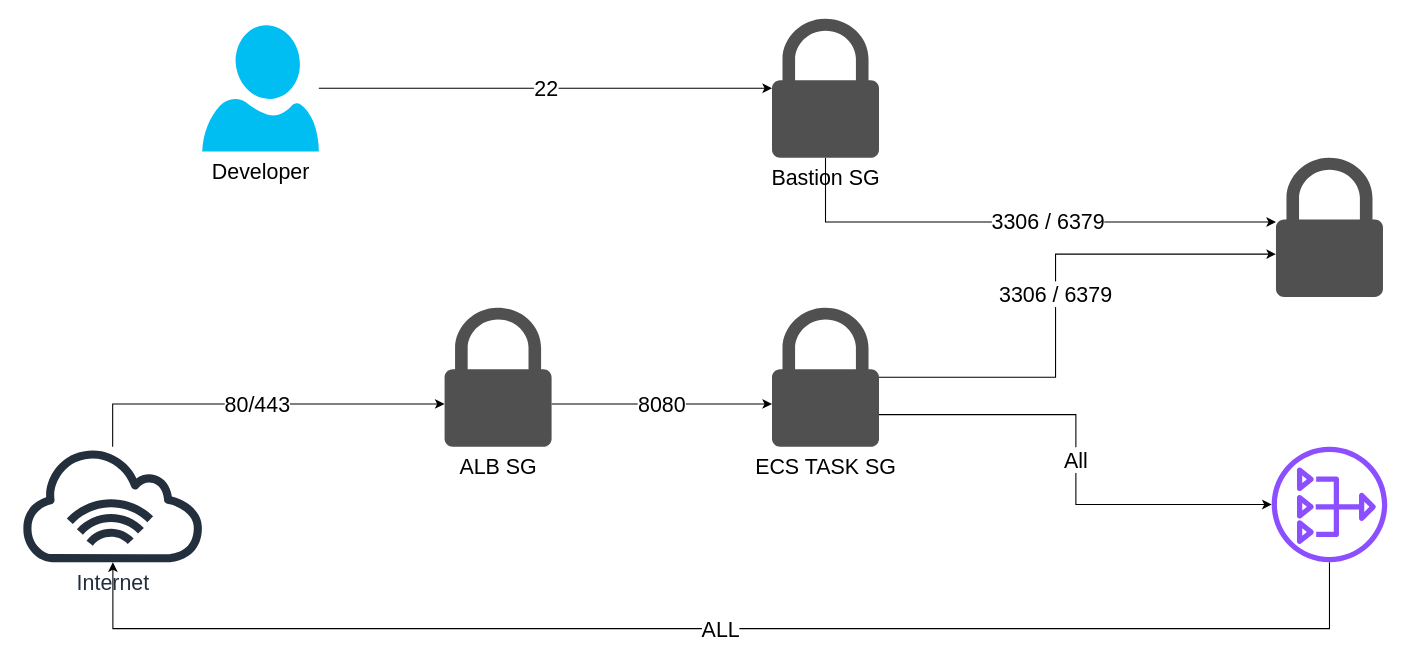
Image size: 1413x659. Some labels were removed from this diagram. Each missing label, with the box of its shape:
DB SG: (1275, 157, 1382, 296)
NAT Gateway: (1271, 446, 1387, 562)
